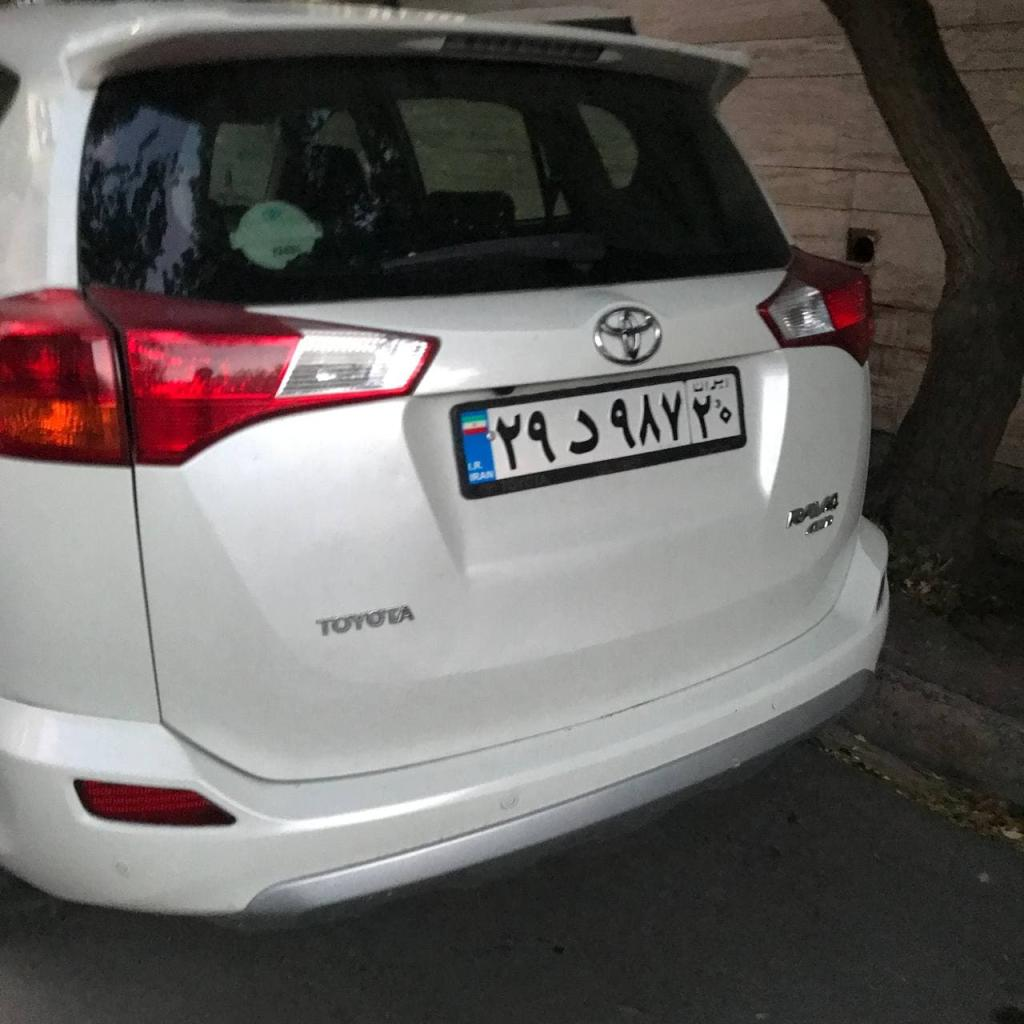Plates: (459, 373, 741, 485)
